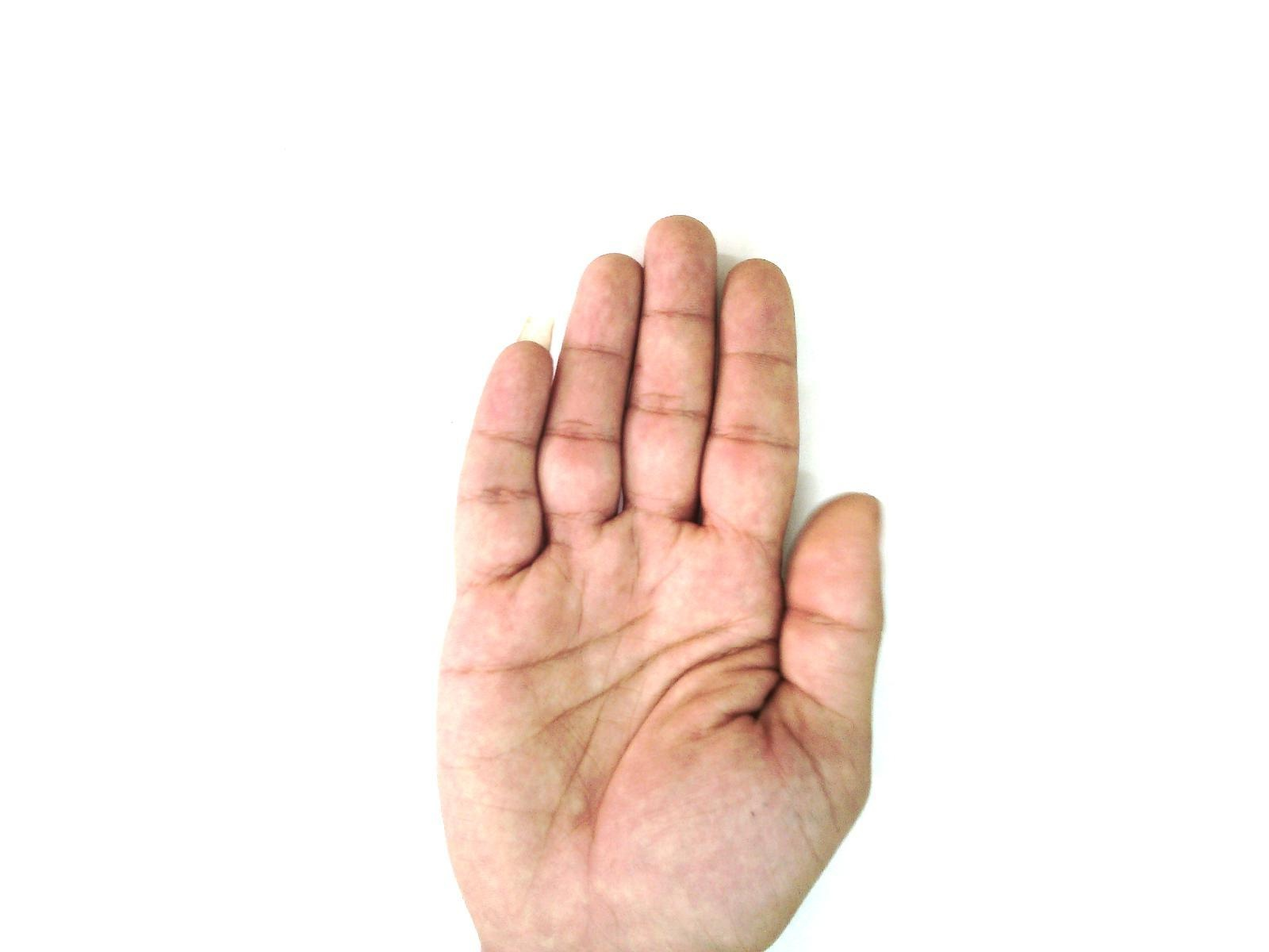open_palm: (433, 214, 888, 951)
